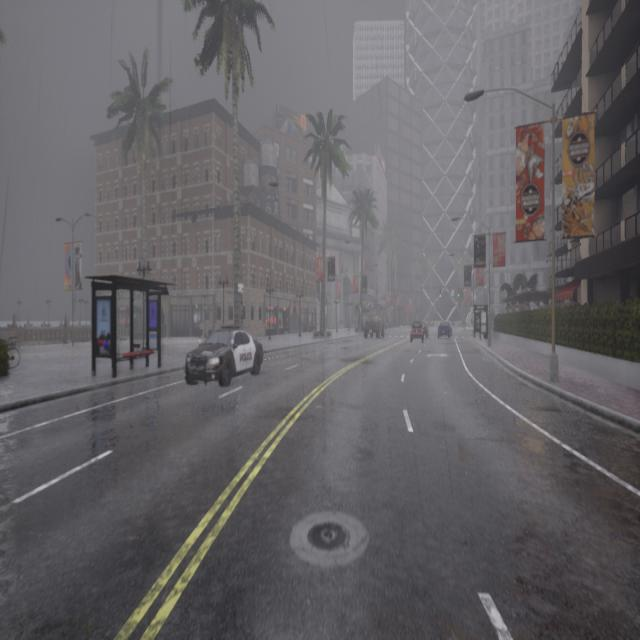9: (457, 288, 460, 298), (440, 288, 442, 299)
bien_hieu_lenh: (439, 294, 442, 298), (457, 294, 460, 297)
